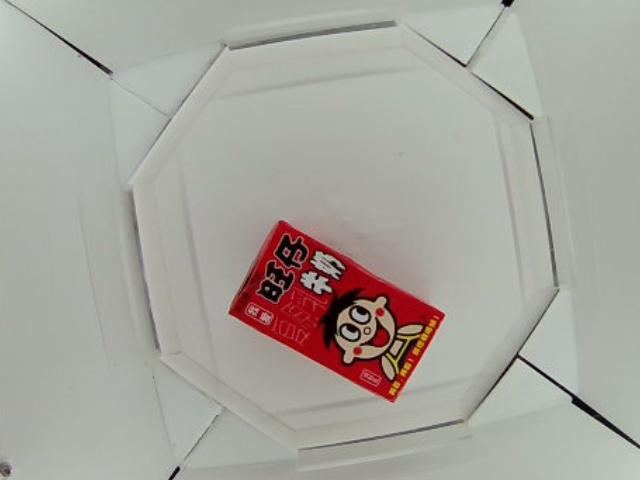Bottle: (226, 217, 444, 400)
